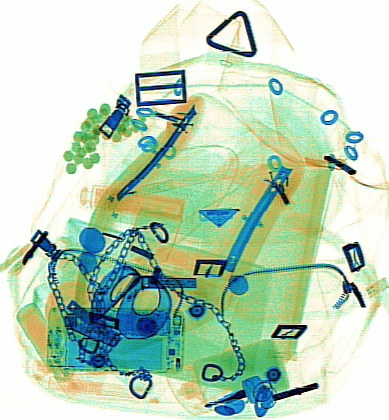pressure: (15, 303, 87, 397)
